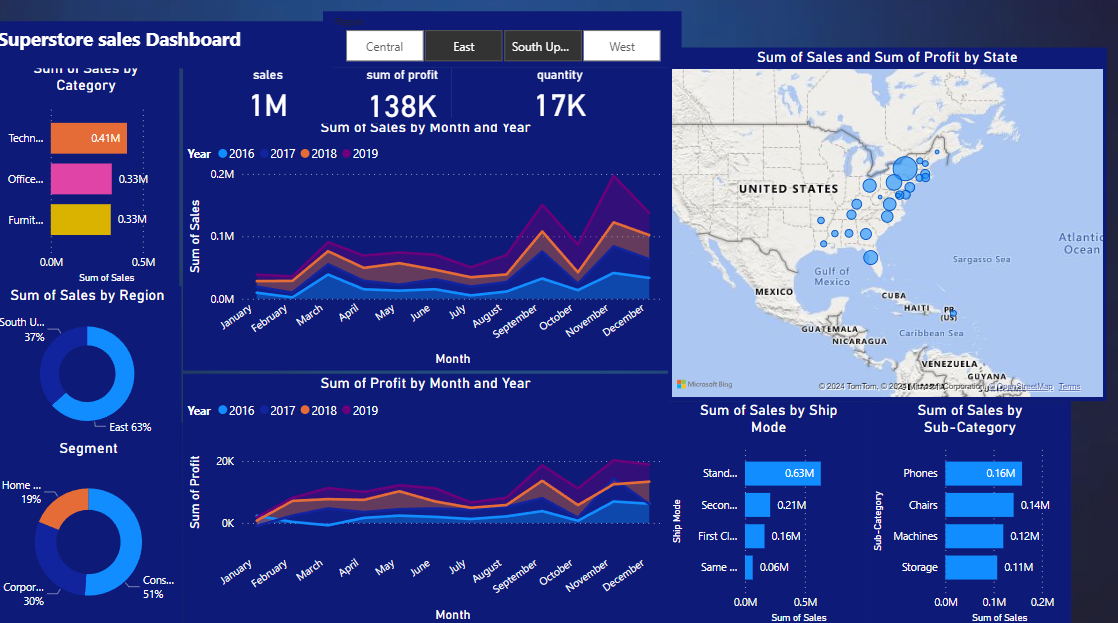

Layout of this report page (visuals, bound fields, positions):
{"tool":"powerbi","page":{"name":"Page 1","canvas":[1280,720],"ordinal":0},"visuals":[{"type":"clusteredBarChart","fields":{"Category":["Sample - Superstore pb.Category"],"Y":["Sum(Sample - Superstore pb.Sales)"]},"box":[0,72,212,260],"z":0},{"type":"clusteredBarChart","fields":{"Category":["Sample - Superstore pb.Sub-Category"],"Y":["Sum(Sample - Superstore pb.Sales)"]},"box":[997.3,462.7,229.3,257.3],"z":1000},{"type":"clusteredBarChart","fields":{"Category":["Sample - Superstore pb.Ship Mode"],"Y":["Sum(Sample - Superstore pb.Sales)"]},"box":[768,462.7,229.3,257.3],"z":2000},{"type":"stackedAreaChart","fields":{"Y":["Sum(Sample - Superstore pb.Sales)"],"Series":["Sample - Superstore pb.Order Date.Variation.Date Hierarchy.Year"],"Category":["Sample - Superstore pb.Order Date.Variation.Date Hierarchy.Month","Sample - Superstore pb.Order Date.Variation.Date Hierarchy.Day"]},"box":[216,140,552,288],"z":3000},{"type":"stackedAreaChart","fields":{"Series":["Sample - Superstore pb.Order Date.Variation.Date Hierarchy.Year"],"Category":["Sample - Superstore pb.Order Date.Variation.Date Hierarchy.Month","Sample - Superstore pb.Order Date.Variation.Date Hierarchy.Day"],"Y":["Sum(Sample - Superstore pb.Profit)"]},"box":[216,430.7,552,286.7],"z":4000},{"type":"map","fields":{"Category":["Sample - Superstore pb.State"],"Size":["Sum(Sample - Superstore pb.Sales)"]},"box":[780.8,59.7,486.4,392.5],"z":5000},{"type":"donutChart","fields":{"Category":["Sample - Superstore pb.Segment"],"Y":["Sum(Sample - Superstore pb.Sales)"]},"box":[1.3,486.7,214.7,230.7],"z":6000},{"type":"slicer","fields":{"Values":["Sample - Superstore pb.Region"]},"box":[386.7,37.3,405.3,45.3],"z":7000},{"type":"textbox","box":[0,29.3,386.7,53.3],"z":8000},{"type":"card","title":"sales","fields":{"Values":["Sum(Sample - Superstore pb.Sales)"]},"box":[302.7,82.7,106.7,64],"z":9000},{"type":"card","title":"sum of profit","fields":{"Values":["Sum(Sample - Superstore pb.Profit)"]},"box":[409.3,82.7,112,64],"z":10000},{"type":"card","title":"quantity","fields":{"Values":["Sum(Sample - Superstore pb.Quantity)"]},"box":[521.3,82.7,118.7,64],"z":11000},{"type":"donutChart","fields":{"Category":["Sample - Superstore pb.Region"],"Y":["Sum(Sample - Superstore pb.Sales)"]},"box":[0,332,214.7,178.7],"z":12000}]}

Visuals, with their boxes in screenshot pixels (x1, y1, x2, y2), scaled from the page's 1280x720 canvas onto the 1118x623 screenshot:
clusteredBarChart - Sample - Superstore pb.Category x Sum(Sample - Superstore pb.Sales): 0:62:185:287
clusteredBarChart - Sample - Superstore pb.Sub-Category x Sum(Sample - Superstore pb.Sales): 871:400:1071:622
clusteredBarChart - Sample - Superstore pb.Ship Mode x Sum(Sample - Superstore pb.Sales): 671:400:871:622
stackedAreaChart - Sum(Sample - Superstore pb.Sales) x Sample - Superstore pb.Order Date.Variation.Date Hierarchy.Year: 189:121:671:370
stackedAreaChart - Sample - Superstore pb.Order Date.Variation.Date Hierarchy.Year x Sample - Superstore pb.Order Date.Variation.Date Hierarchy.Month: 189:373:671:621
map - Sample - Superstore pb.State x Sum(Sample - Superstore pb.Sales): 682:52:1107:391
donutChart - Sample - Superstore pb.Segment x Sum(Sample - Superstore pb.Sales): 1:421:189:621
slicer - Sample - Superstore pb.Region: 338:32:692:71
textbox: 0:25:338:71
"sales" card: 264:72:358:127
"sum of profit" card: 357:72:455:127
"quantity" card: 455:72:559:127
donutChart - Sample - Superstore pb.Region x Sum(Sample - Superstore pb.Sales): 0:287:188:442
